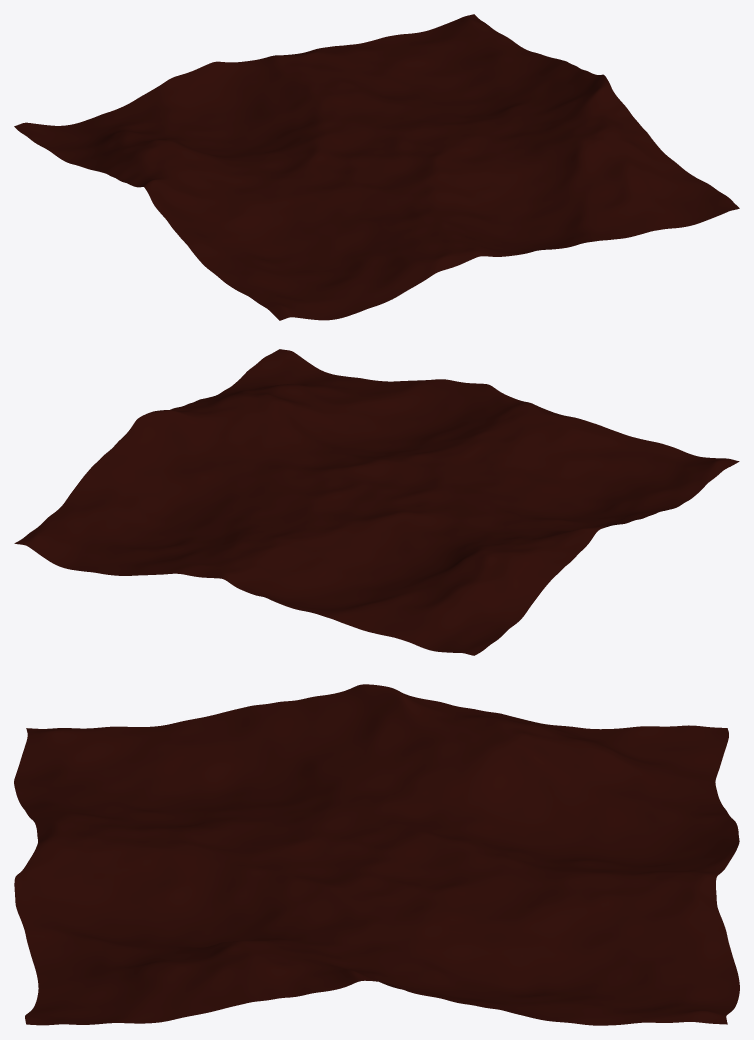
File: JellyOceans.fbx
The picture shows the model from 3 angles, top to bottom: view 1: azimuth 30°, elevation 25°; view 2: azimuth 150°, elevation 25°; view 3: azimuth 270°, elevation 25°; orthographic projection. The views are drawn at different scales.
Visible parts, largest first — view 1: Plane; view 2: Plane; view 3: Plane.
Part boxes in pixels (<box>): Plane: <box>14,14,739,320</box>; Plane: <box>14,349,739,655</box>; Plane: <box>14,684,739,1025</box>.
Bounding box in the file's own units: 3294 × 288 × 3312.
